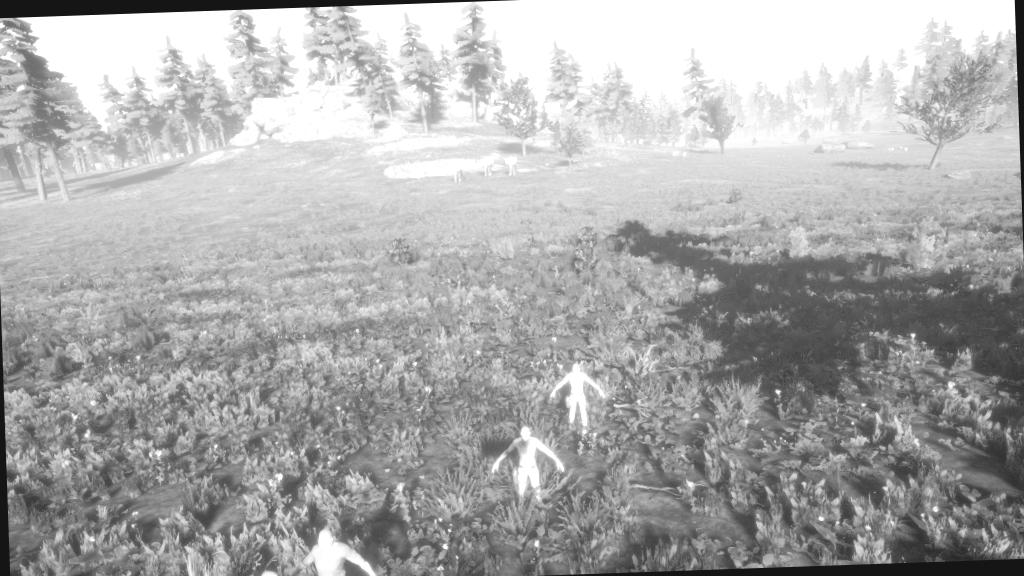elephant: (444, 156, 470, 186), (478, 150, 503, 181), (498, 152, 525, 180)
human: (482, 423, 574, 518), (542, 356, 612, 442)
